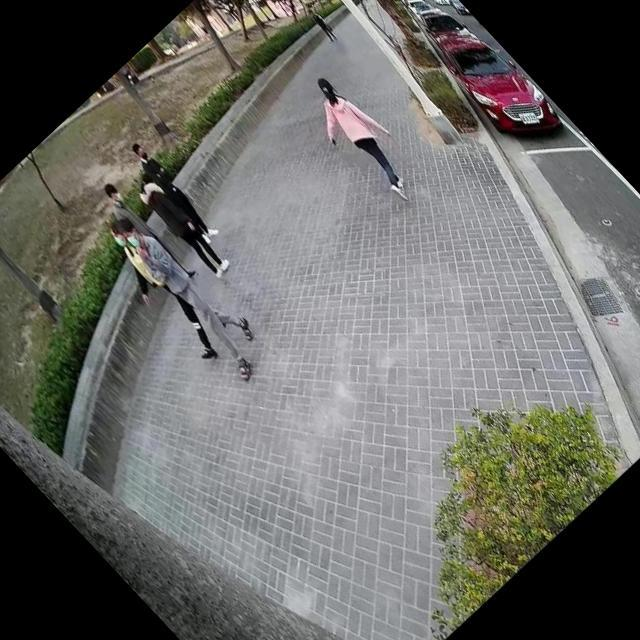person: (100, 198, 278, 384), (86, 208, 241, 369), (290, 63, 436, 214), (122, 165, 237, 285), (88, 174, 201, 292), (118, 134, 225, 246), (302, 5, 342, 46)
